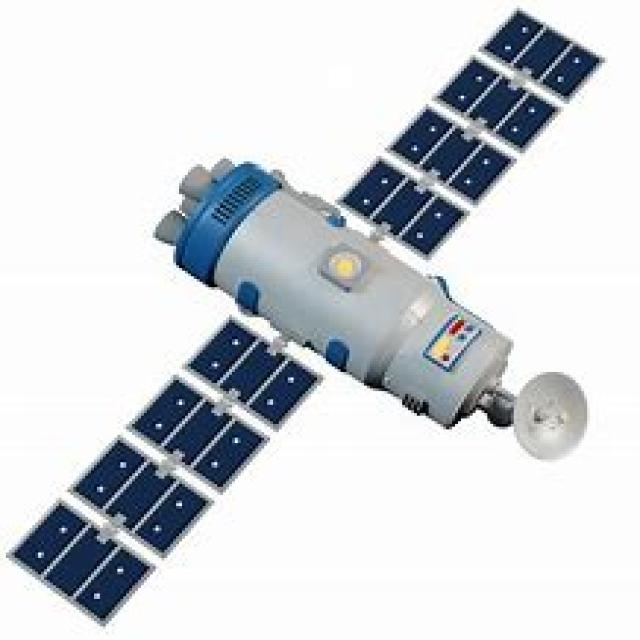satellite: (33, 16, 608, 627)
